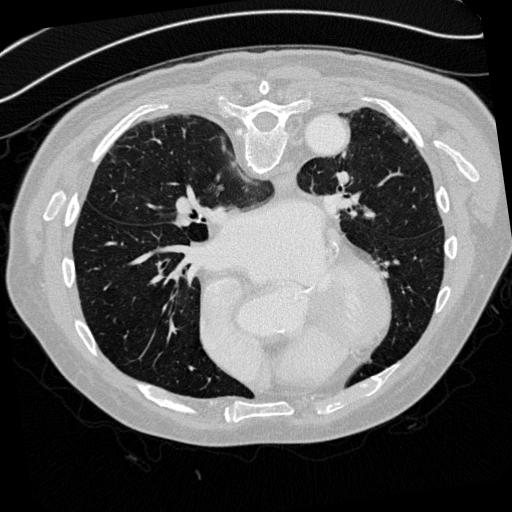nodule: (399, 136, 410, 147)
